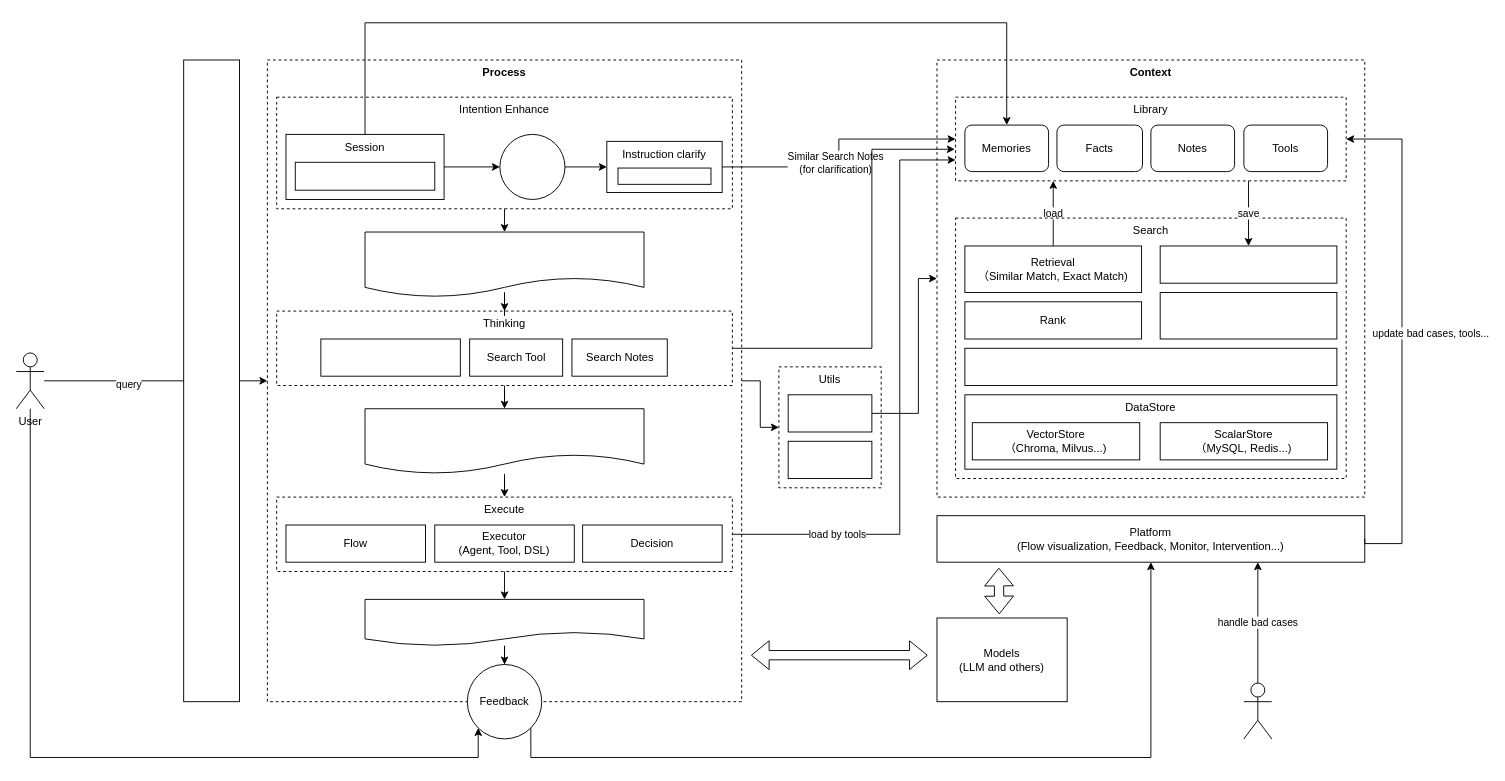
Image size: 1505x781. Some labels were removed from this diagram. The centre of each missing label's shape, as x and y in pixels:
"Cache" belongs at point 829,413.
"Frugal Adaptor" belongs at point 829,459.
"Index （Embeddings， Keywords...)" belongs at point 1150,366.
"Loader (From doc, web)" belongs at point 1248,264.
"Long short-term memory" belongs at point 364,175.
"MetaPrompt" belongs at point 664,175.
"PDM" belongs at point 1257,710.
"Prompt (+Reasoning Pattern, +Tools, +Examples)" belongs at point 504,441.
"Prompt (Long mem, Short mem，Recent Chat History，Query(Instruction)" belongs at point 504,264.
"Result" belongs at point 504,622.
"Search Reasoning Pattern" belongs at point 390,357.
"Security Filter" belongs at point 211,380.
"Storage （TextSplitter)" belongs at point 1248,315.
"summarize" belongs at point 532,166.
